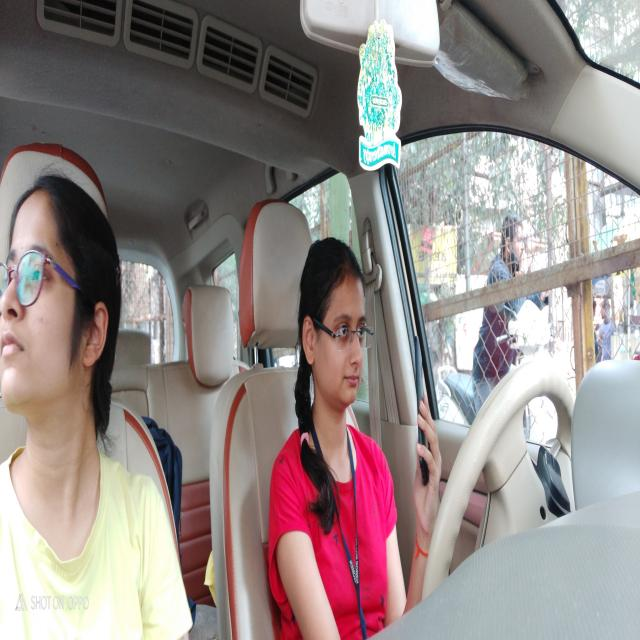mobile: (404, 326, 442, 504)
person: (0, 149, 123, 471), (294, 209, 382, 446)
